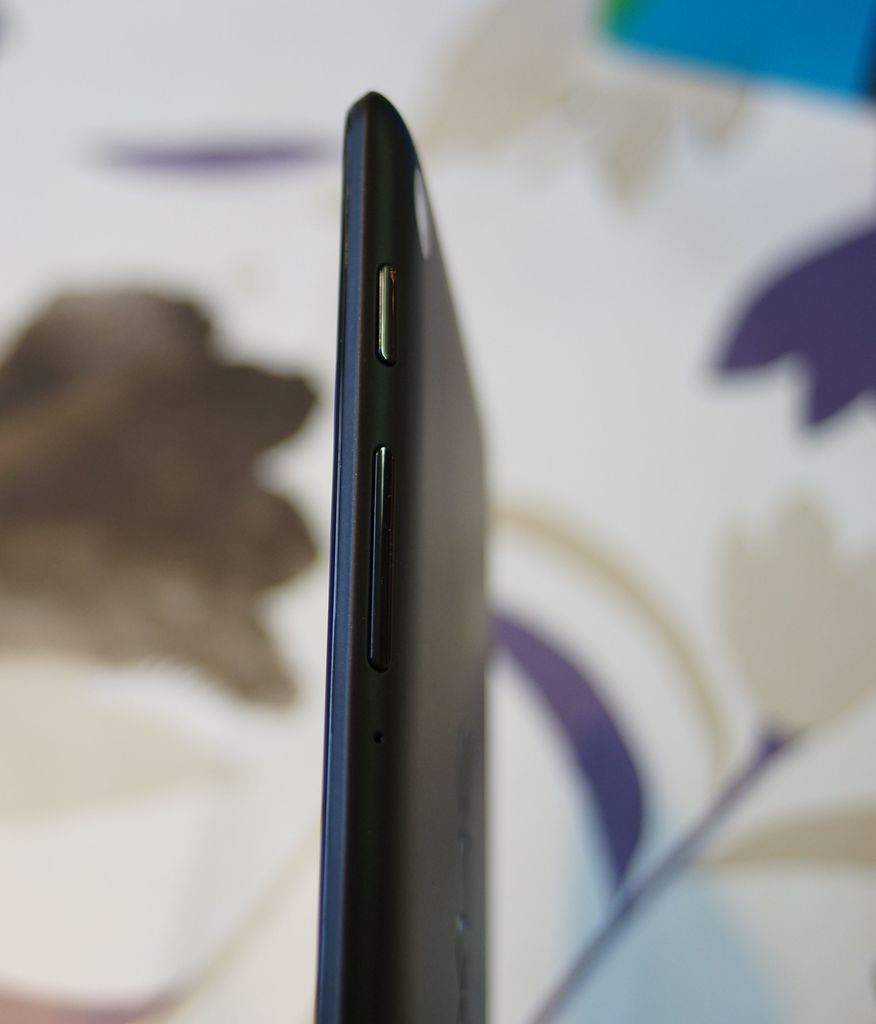Mobile-phone: (319, 90, 487, 1024)
